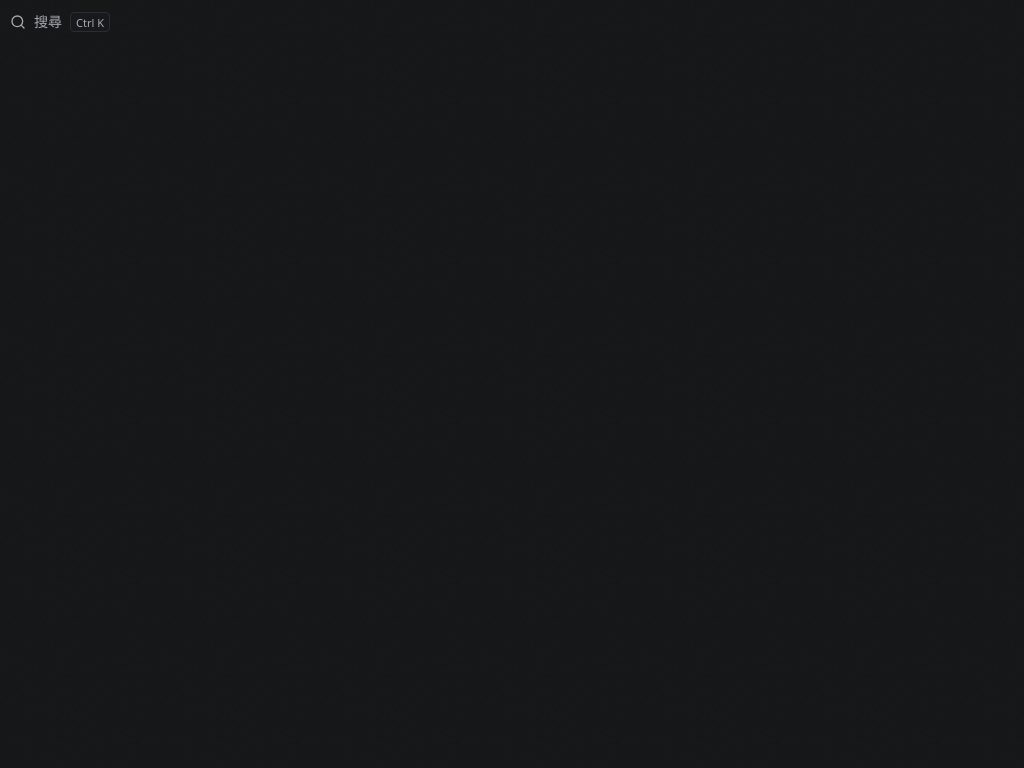
it: CommandPalette › navigates to the highlighted result on Enter and closes
The image size is (1024, 768).
Step 1. Type keys "{Control>}k{/Control}"
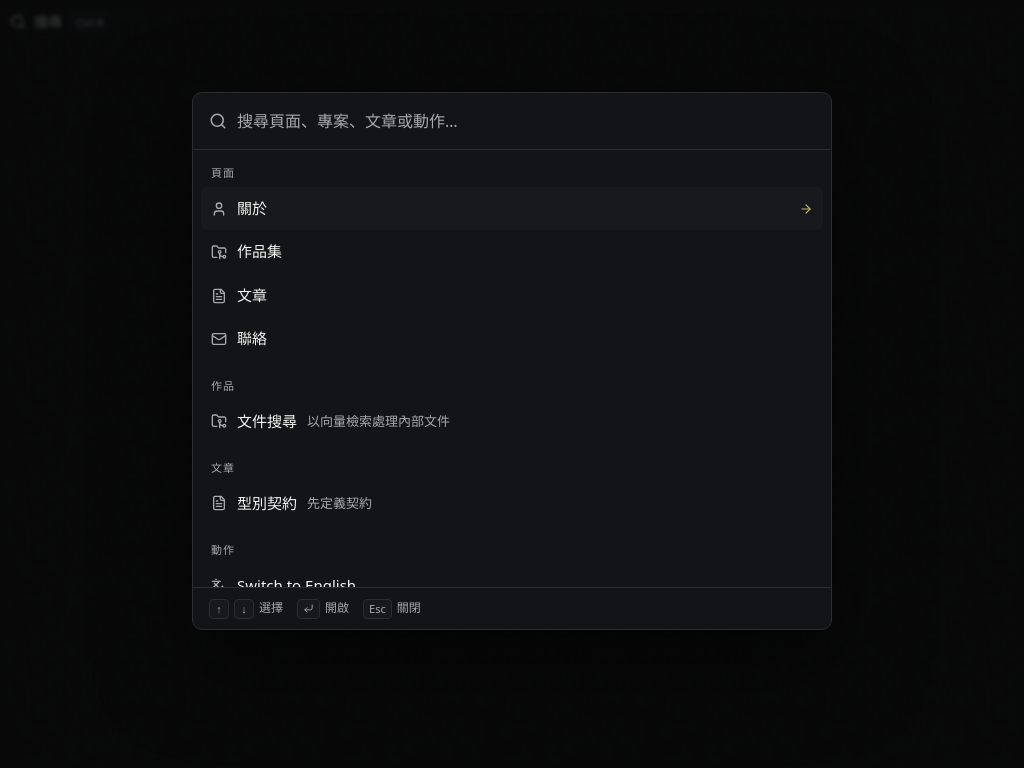
Step 2. Type "document" into the dropdown → (526, 121), box [237, 107, 815, 135]
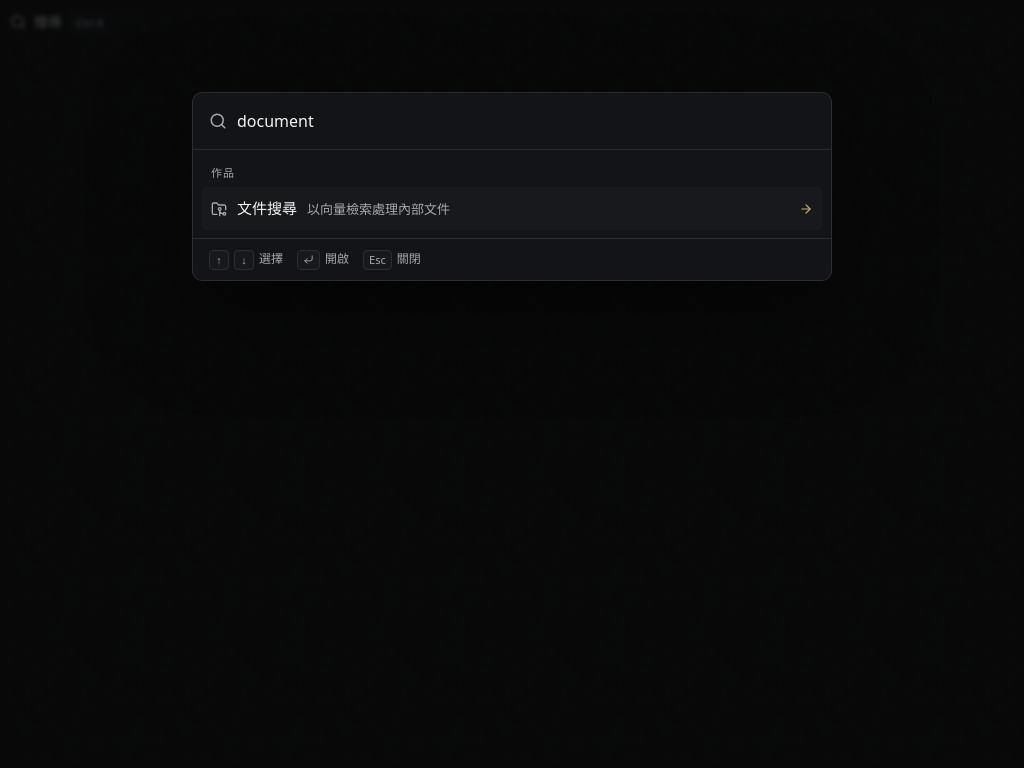
Expected: the number of options is 1, [201, 187, 823, 230]
Step 3. Press Enter
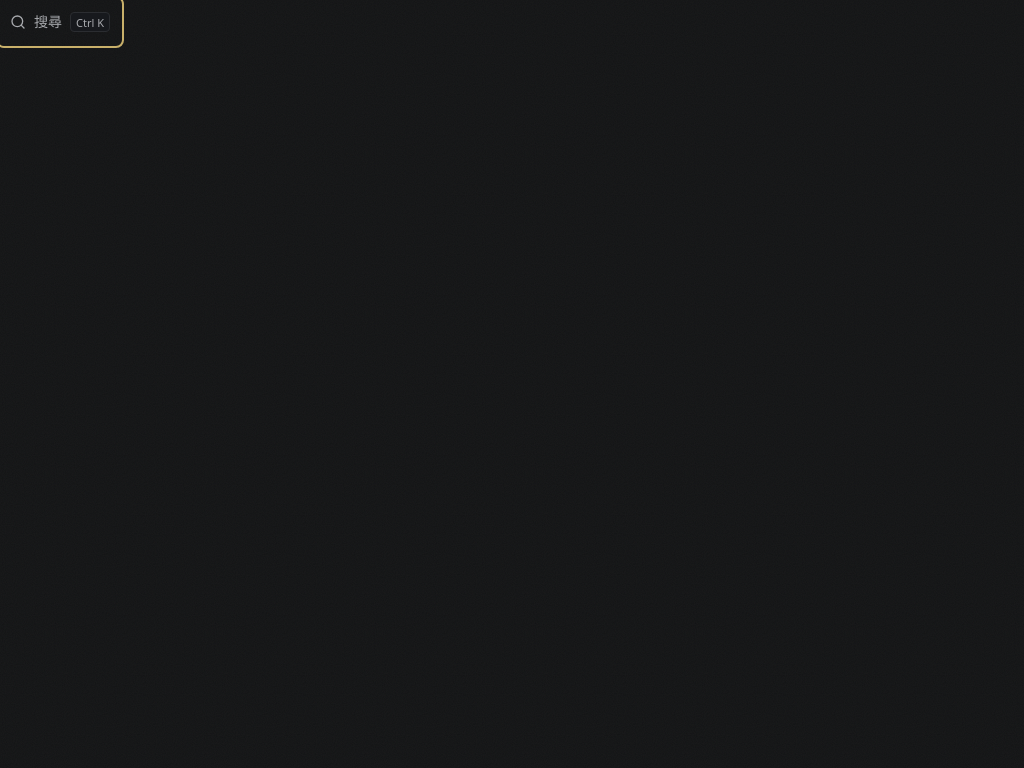
Expected: the dialog is gone
